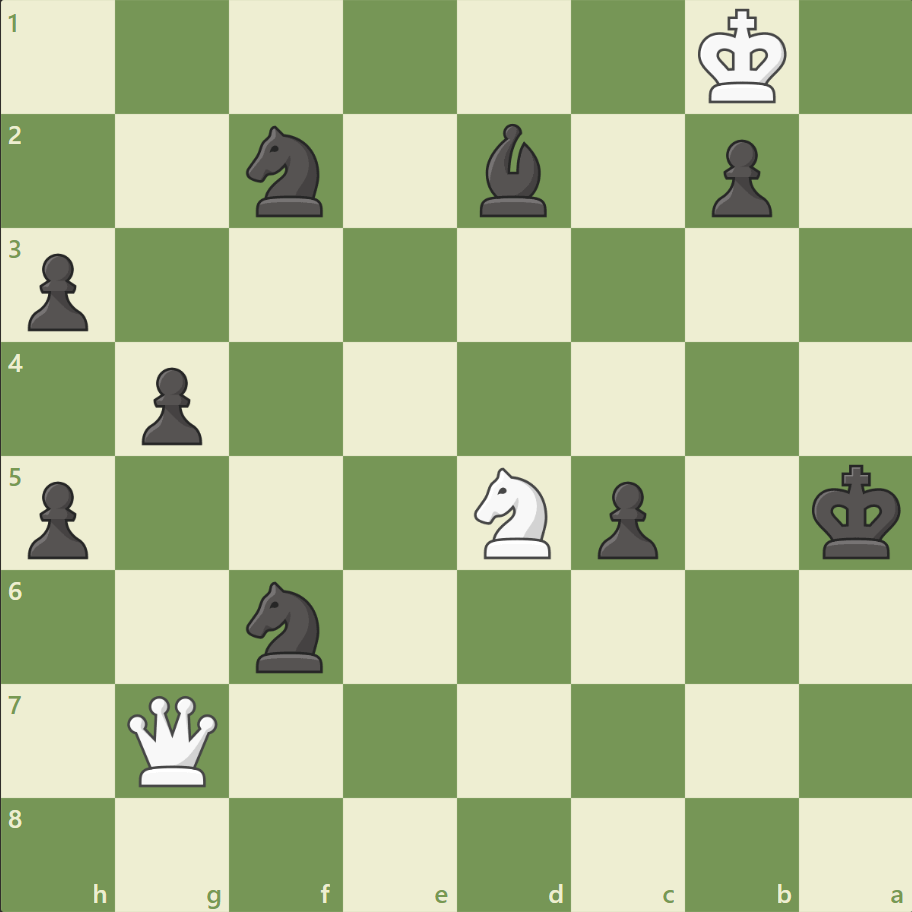K: (692, 4, 792, 112)
N: (465, 461, 562, 564)
Q: (124, 690, 223, 789)
b: (471, 120, 555, 222)
k: (806, 458, 906, 566)
n: (238, 575, 335, 677), (238, 121, 335, 223)
p: (20, 473, 95, 564), (133, 359, 208, 450), (20, 246, 95, 337), (701, 132, 776, 223), (588, 473, 662, 564)
